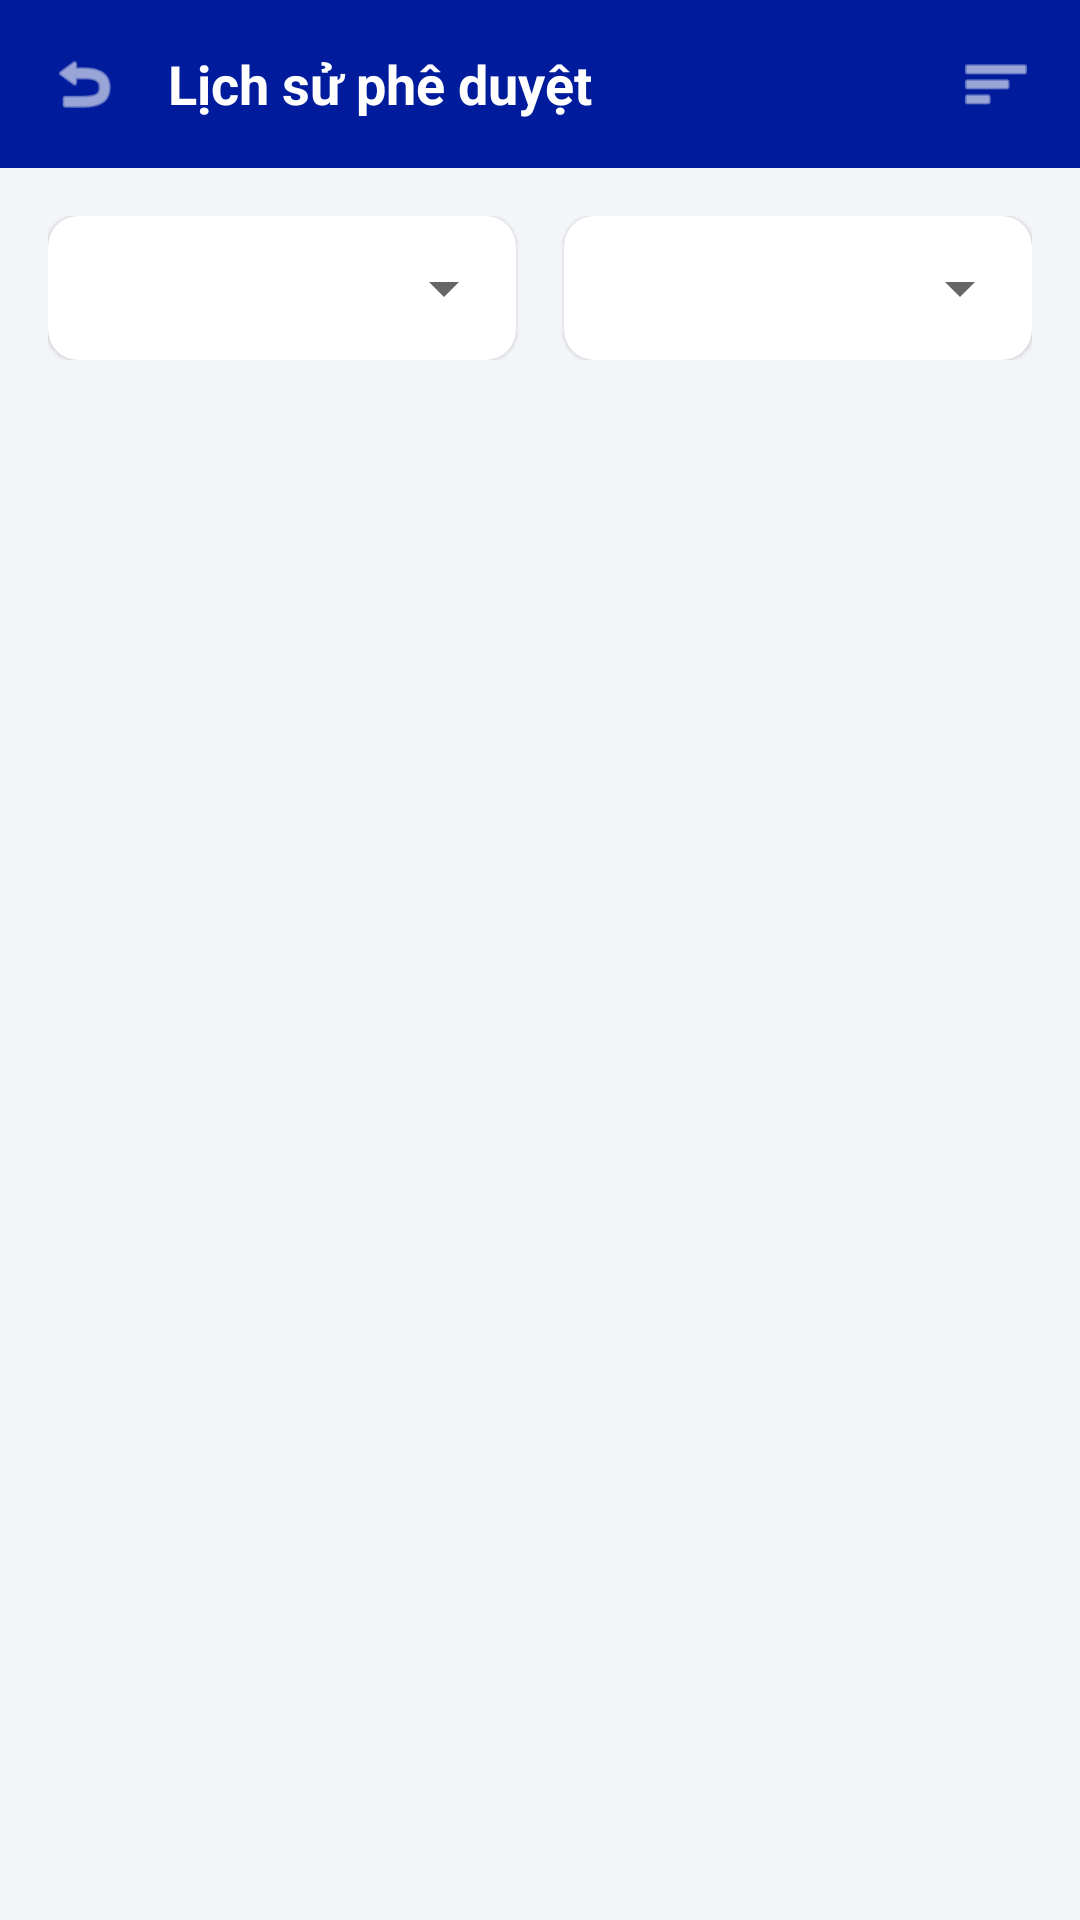

Named icons in this screenshot (1080px×1920px) and their bounding boxes, (x1, y1, x2, y2):
revert: (59, 61, 111, 108)
sort by size: (965, 64, 1027, 105)
